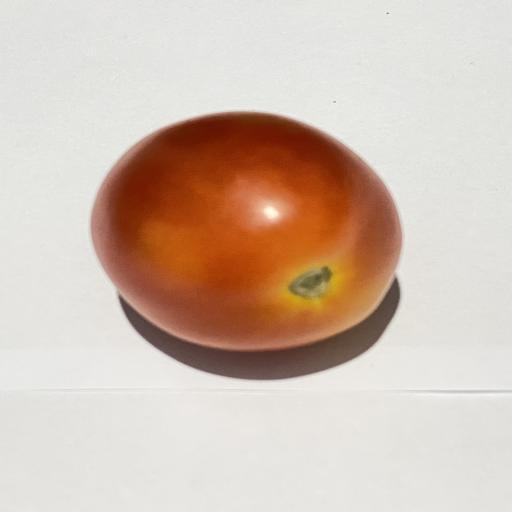ripe: (91, 112, 401, 350)
